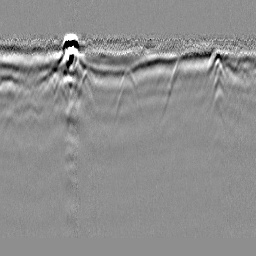cavity: (116, 63, 139, 93)
